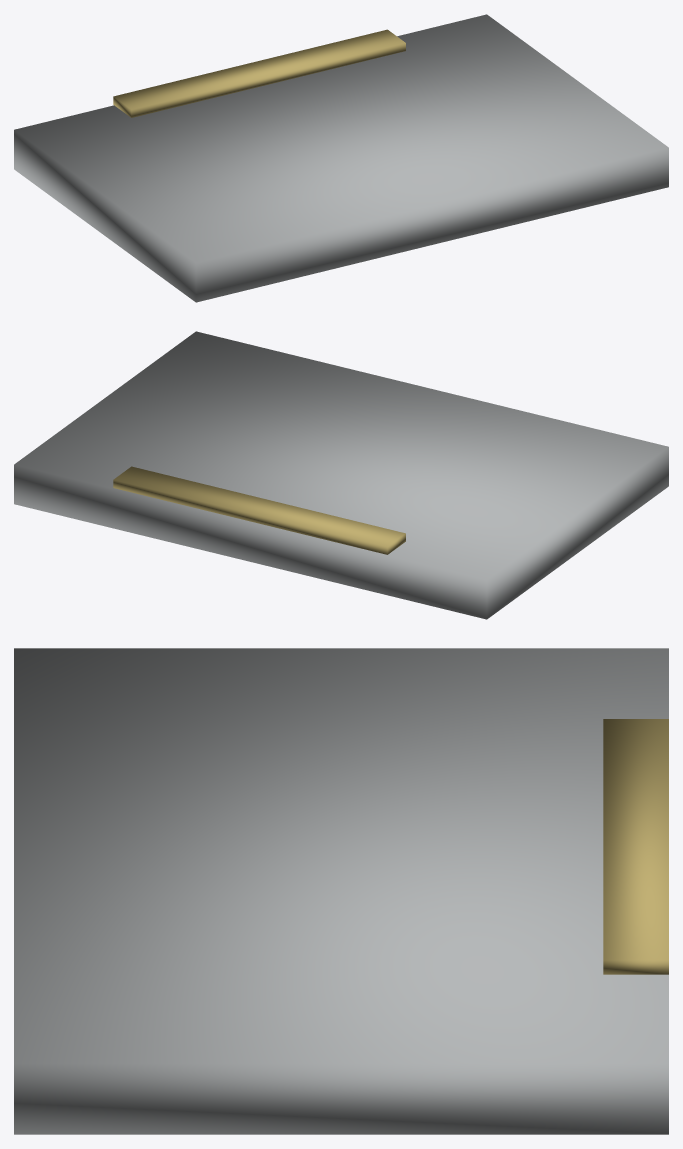
File: floor_w150_d100_open.glb
3 renders of one model, top to bottom at view 1: azimuth 30°, elevation 25°; view 2: azimuth 150°, elevation 25°; view 3: azimuth 270°, elevation 25°, orthographic. The views are drawn at different scales.
Visible parts, largest first — view 1: world; view 2: world; view 3: world.
Part boxes in pixels (x1=…): world: x1=14, y1=14, x2=668, y2=302; world: x1=14, y1=331, x2=668, y2=619; world: x1=14, y1=648, x2=668, y2=1134.
Size of the model in its own units: 1.5 by 0.1475 by 1.
